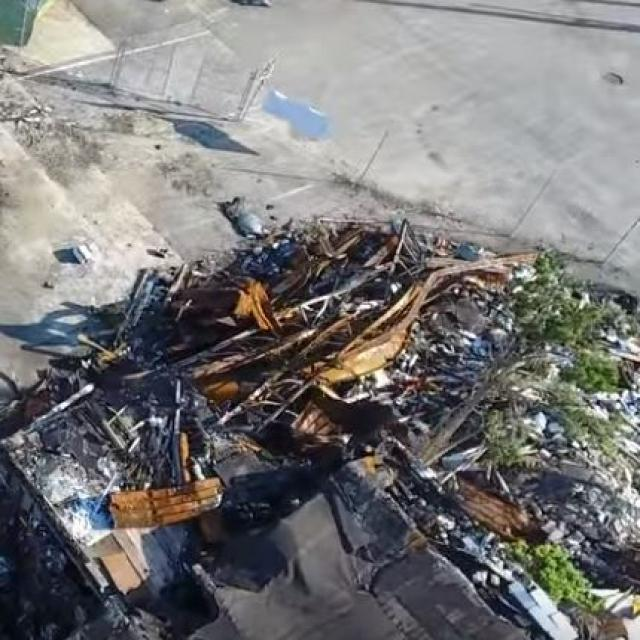collapsed_building: (8, 256, 628, 638)
